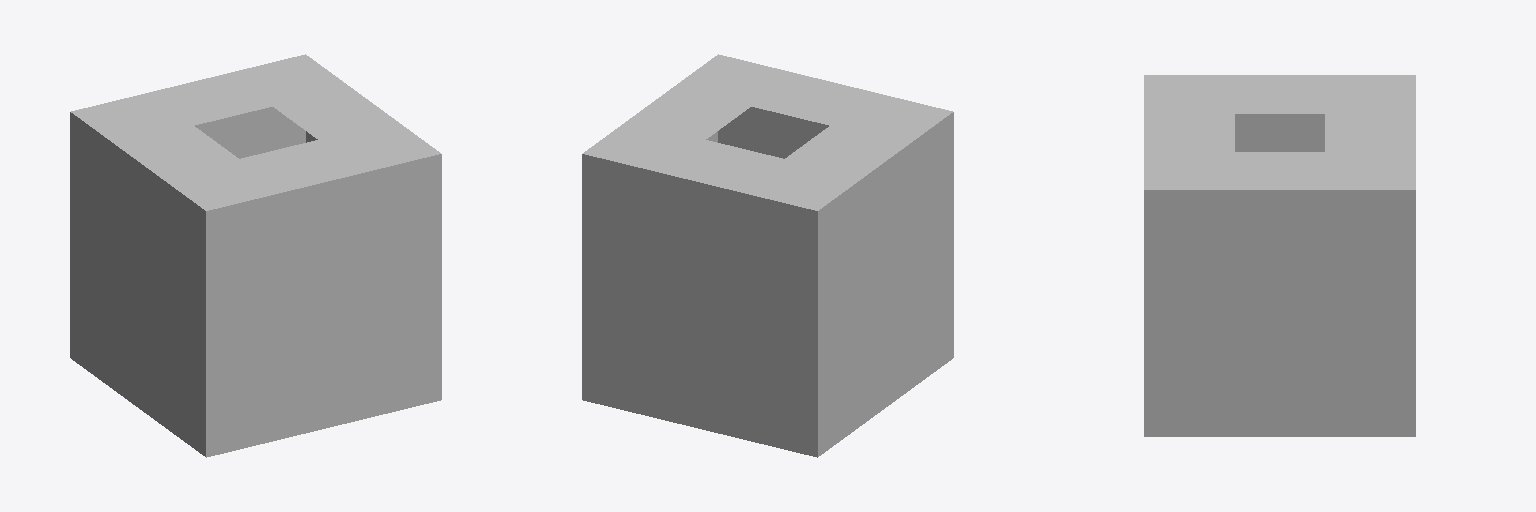
Rendered from EmptyFace.obj.
3 renders of one model, left to right at view 1: azimuth 30°, elevation 25°; view 2: azimuth 150°, elevation 25°; view 3: azimuth 270°, elevation 25°, orthographic.
Visible parts, largest first — view 1: pCube1; view 2: pCube1; view 3: pCube1.
Part boxes in pixels (x1,y1,x2,y2): pCube1: (70,54,441,457); pCube1: (582,54,953,457); pCube1: (1144,75,1415,436).
Size of the model in its own units: 1 by 1 by 1.